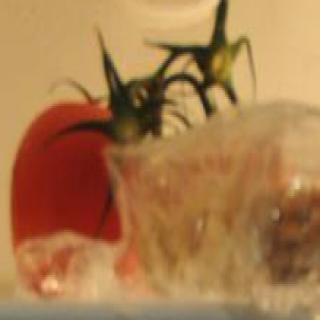tomato: (1, 0, 320, 320)
